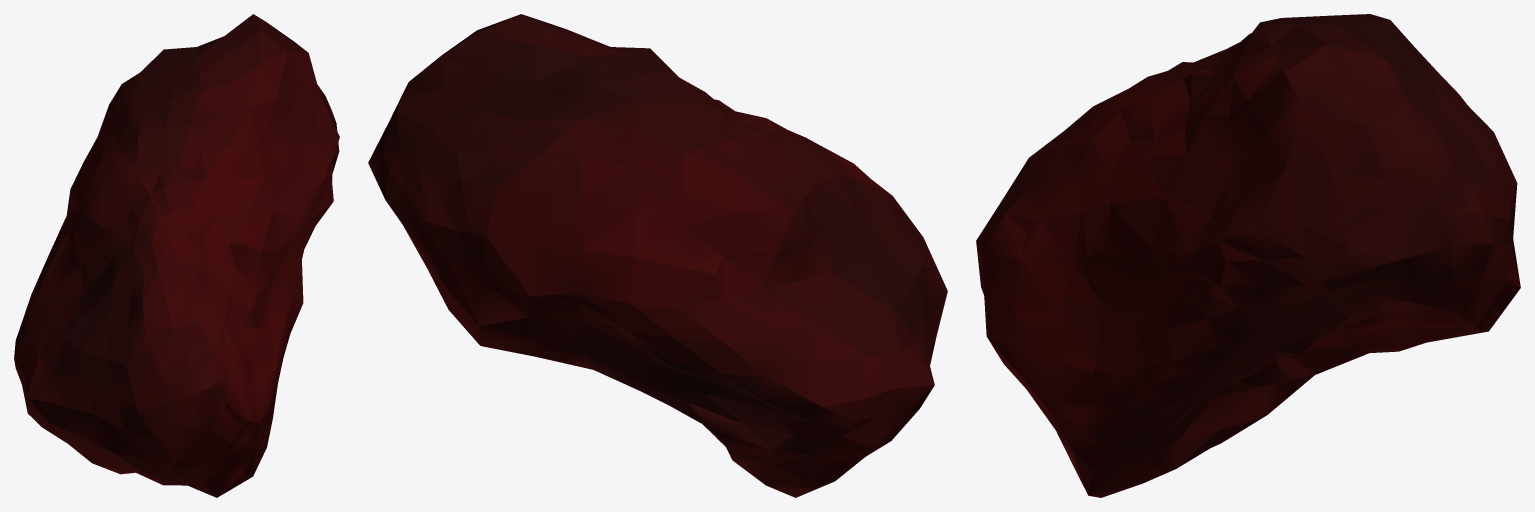
The model's file is geology-rocks-asteroidhuge_v3.fbx.
3 renders of one model, left to right at view 1: azimuth 30°, elevation 25°; view 2: azimuth 150°, elevation 25°; view 3: azimuth 270°, elevation 25°, orthographic. The views are drawn at different scales.
Parts seen in each view (by area): view 1: AsteroidHuge_v3; view 2: AsteroidHuge_v3; view 3: AsteroidHuge_v3.
Part boxes in pixels (x1=…): AsteroidHuge_v3: x1=14, y1=14, x2=339, y2=497; AsteroidHuge_v3: x1=368, y1=14, x2=947, y2=497; AsteroidHuge_v3: x1=976, y1=14, x2=1520, y2=497.
Size of the model in its own units: 2.19 by 2.16 by 1.98.
